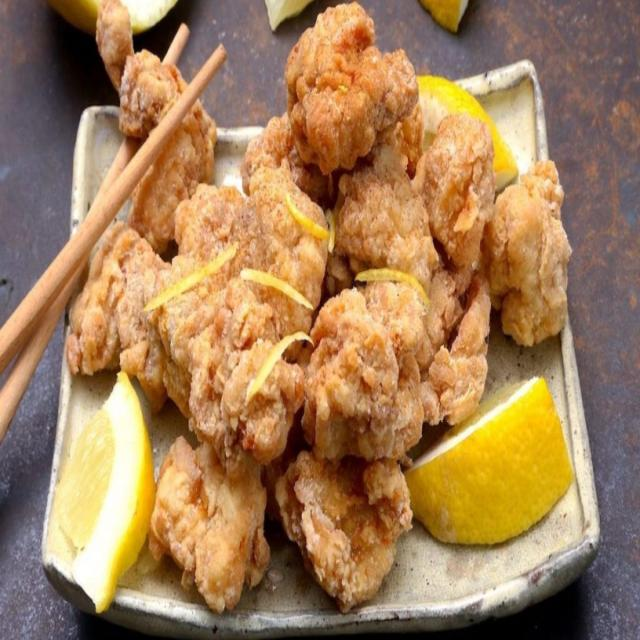Frango: (67, 0, 572, 614)
